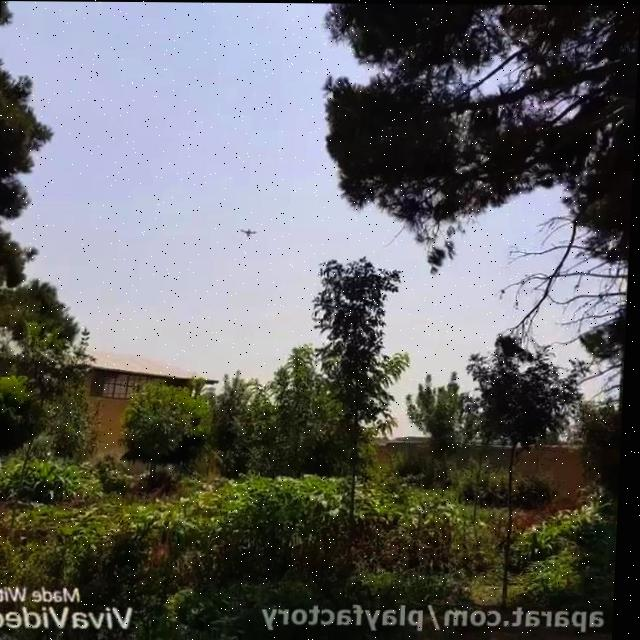drone: (239, 221, 261, 238)
